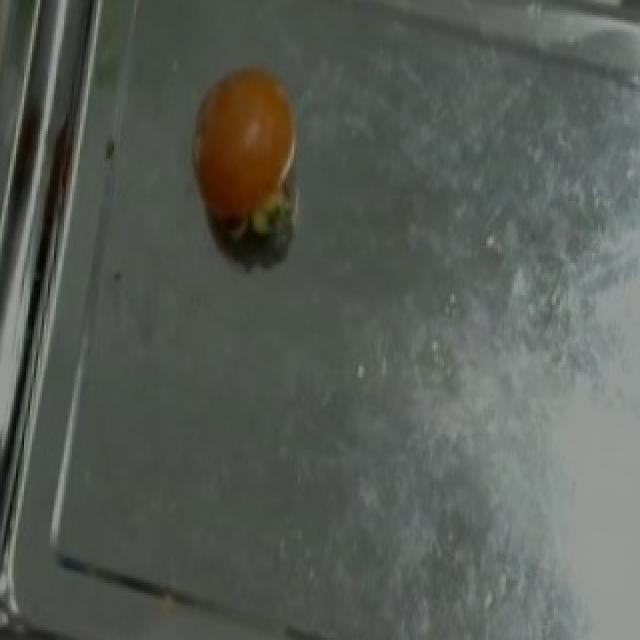Fruit: (176, 52, 314, 248)
